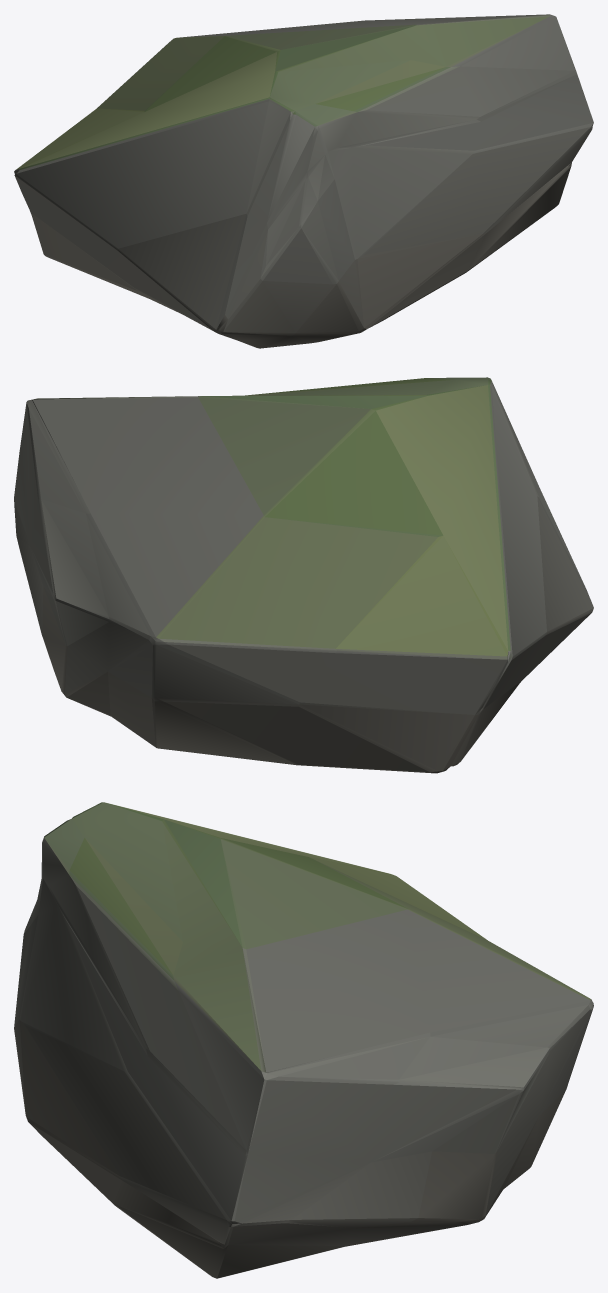
File: rock_c_lod1.glb
The picture shows the model from 3 angles, top to bottom: view 1: azimuth 30°, elevation 25°; view 2: azimuth 150°, elevation 25°; view 3: azimuth 270°, elevation 25°; orthographic projection. The views are drawn at different scales.
Visible parts, largest first — view 1: rock_c_lod1; view 2: rock_c_lod1; view 3: rock_c_lod1.
Boxes of the visible parts, x1=… form: rock_c_lod1: x1=14, y1=14, x2=593, y2=348; rock_c_lod1: x1=14, y1=377, x2=593, y2=773; rock_c_lod1: x1=14, y1=802, x2=593, y2=1278.
Size of the model in its own units: 1.43 by 0.6414 by 1.13.
